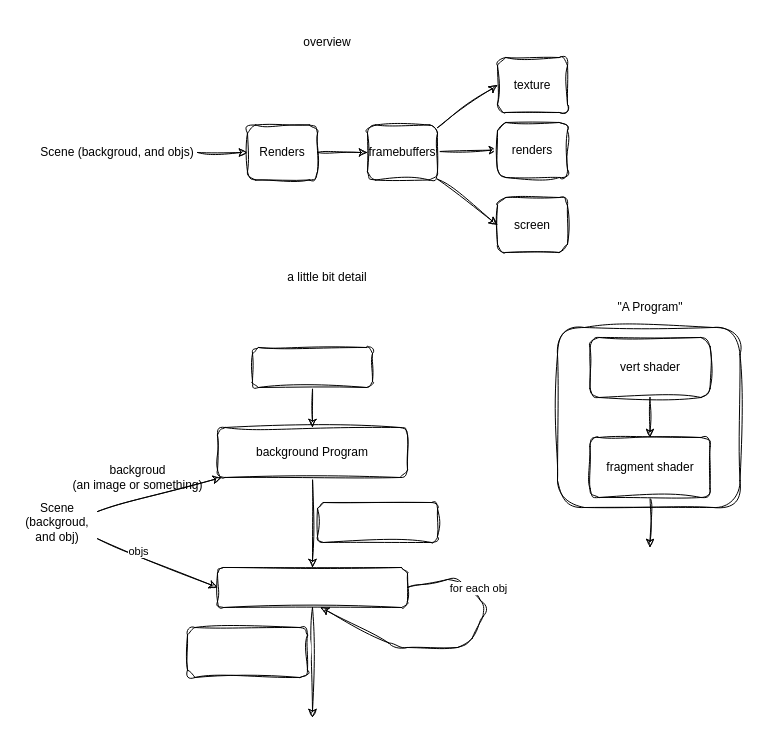
This 757x743 diagram has some shape labels left out. The shapes that lost their labels are listed below. From the top down, each one's centre as x and y in pixels, then its label:
the point at 312,367: empty framebuffers
the point at 377,522: framebuffers filled by background prgramm
the point at 312,587: shader Program
the point at 247,652: framebuffers filled by shader prgramm
